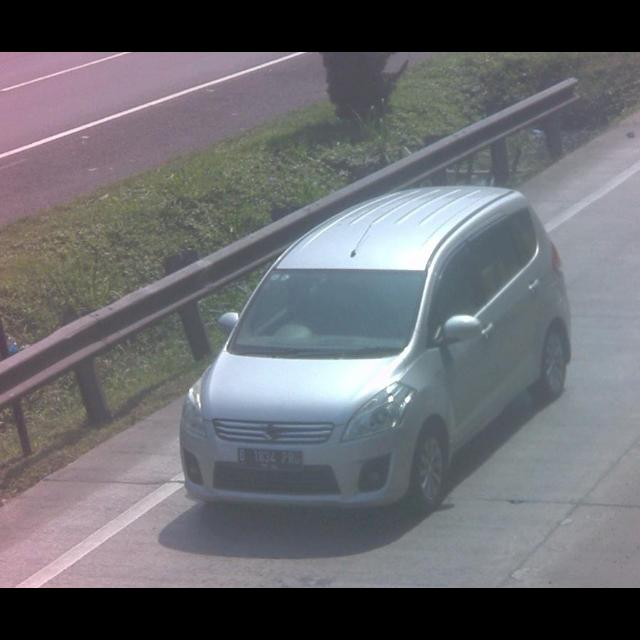plate: (236, 443, 306, 473)
